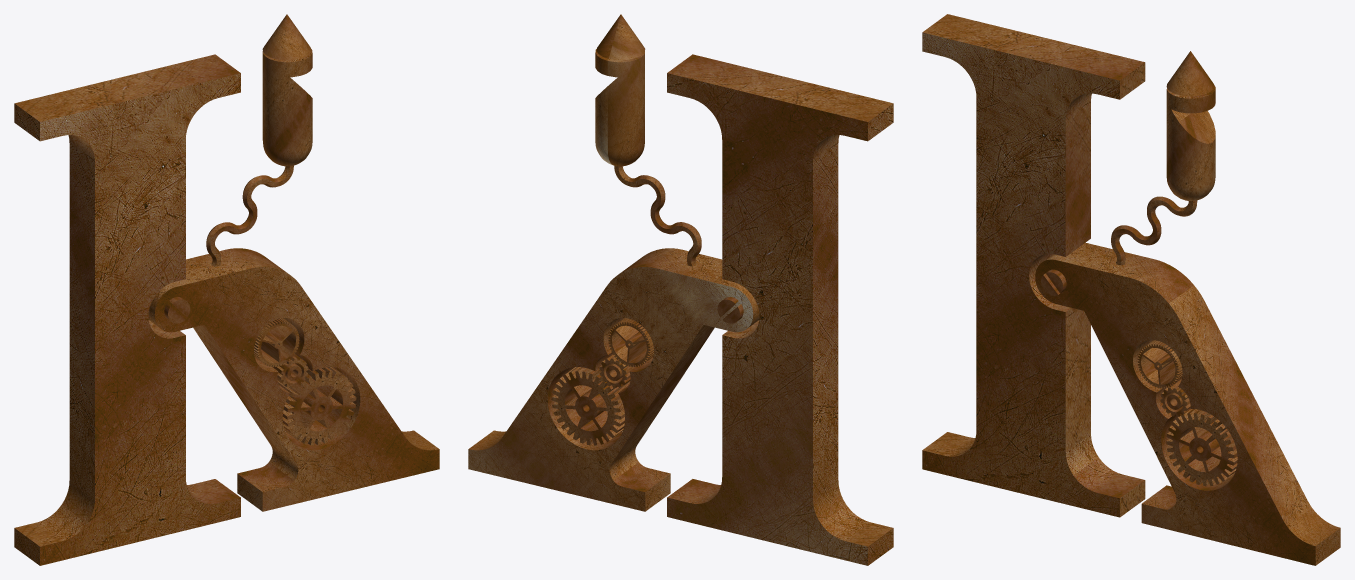
The picture shows the model from 3 angles, left to right: view 1: azimuth 30°, elevation 25°; view 2: azimuth 150°, elevation 25°; view 3: azimuth 330°, elevation 25°; orthographic projection.
Parts seen in each view (by area): view 1: K, Cogwheel_293, Cogwheel_296, Spiral_005, Cogwheel_300; view 2: K, Cogwheel_293, Cogwheel_296, Spiral_005, Cogwheel_300; view 3: K, Cogwheel_293, Cogwheel_296, Spiral_005, Cogwheel_300, Screw_864.
Boxes of the visible parts, bbox=[...] form: K: bbox=[14, 14, 439, 565]; Cogwheel_293: bbox=[277, 367, 356, 445]; Cogwheel_296: bbox=[254, 318, 299, 367]; Spiral_005: bbox=[206, 165, 293, 266]; Cogwheel_300: bbox=[273, 354, 308, 388]; K: bbox=[468, 14, 893, 565]; Cogwheel_293: bbox=[551, 367, 630, 445]; Cogwheel_296: bbox=[608, 318, 653, 366]; Spiral_005: bbox=[614, 166, 701, 266]; Cogwheel_300: bbox=[599, 354, 634, 388]; K: bbox=[922, 14, 1340, 565]; Cogwheel_293: bbox=[1166, 409, 1237, 486]; Cogwheel_296: bbox=[1137, 340, 1182, 388]; Spiral_005: bbox=[1111, 196, 1197, 265]; Cogwheel_300: bbox=[1160, 379, 1190, 416]; Screw_864: bbox=[1041, 269, 1066, 295].
Size of the model in its own units: 90.17 by 104 by 12.89.
Materials: 1 (1 with a texture image).
